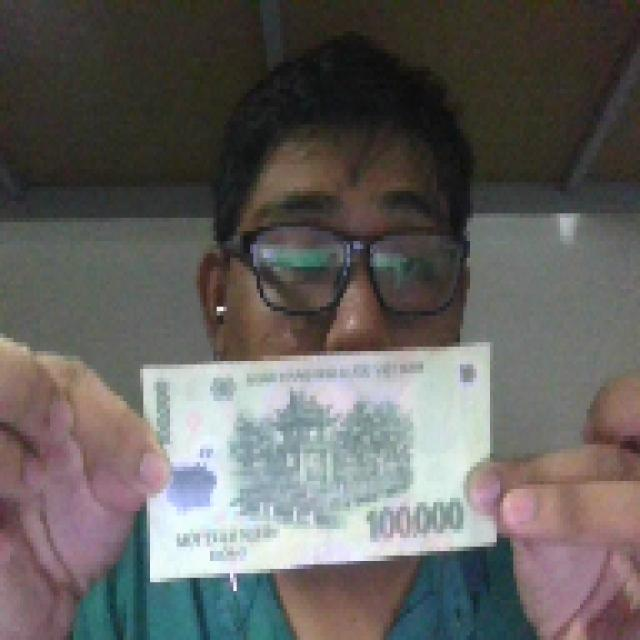100 000 VND: (137, 336, 500, 585)
